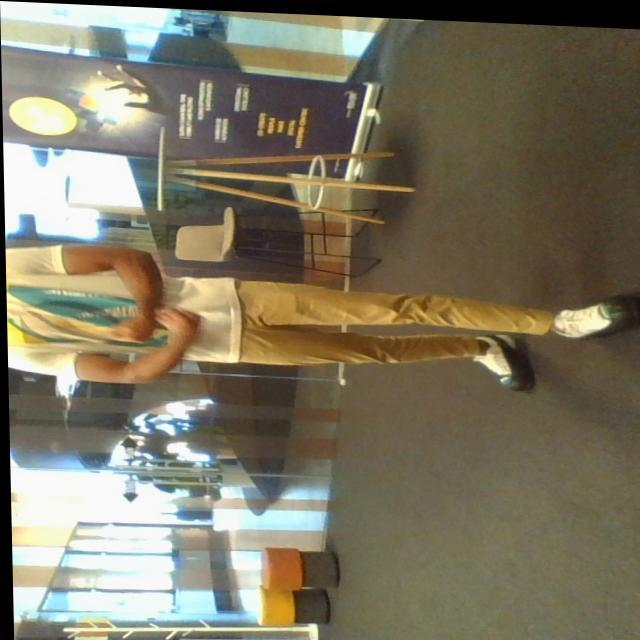shoes: (541, 296, 640, 344), (463, 334, 528, 392)
